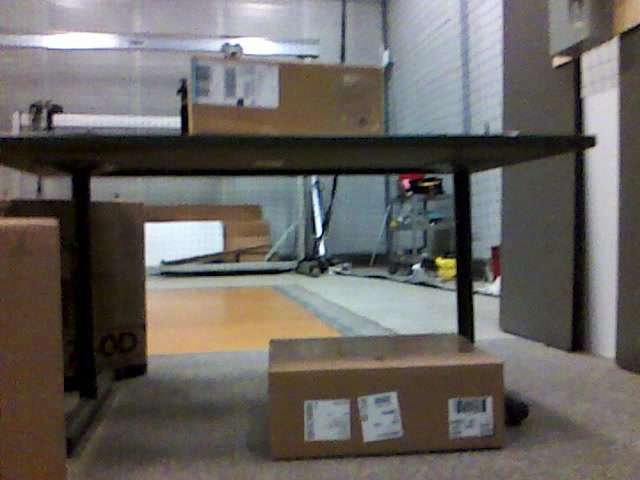box: (269, 339, 506, 458), (1, 218, 66, 474), (189, 57, 386, 136)
